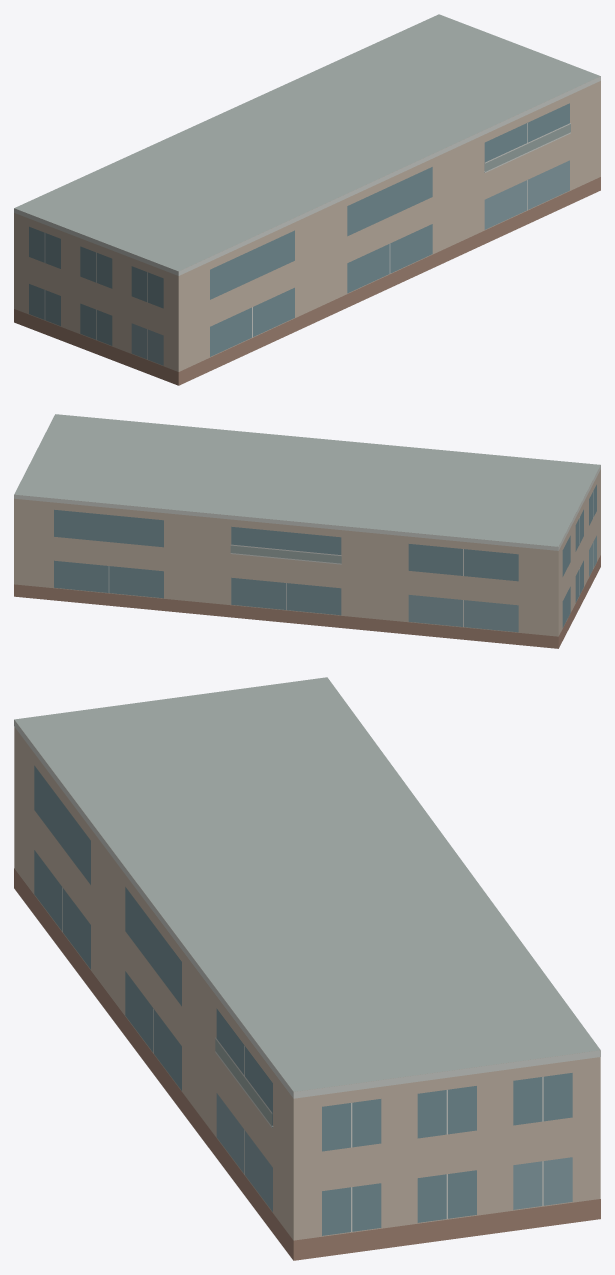
The model's file is survey-upis-33028425.glb.
3 renders of one model, top to bottom at view 1: azimuth 30°, elevation 25°; view 2: azimuth 150°, elevation 25°; view 3: azimuth 270°, elevation 25°, orthographic. The views are drawn at different scales.
Visible parts, largest first — view 1: survey-upis-33028425.tmp; view 2: survey-upis-33028425.tmp; view 3: survey-upis-33028425.tmp.
Part boxes in pixels (box(x1,y1,x2,y2)): survey-upis-33028425.tmp: box(14, 14, 600, 385); survey-upis-33028425.tmp: box(14, 414, 600, 648); survey-upis-33028425.tmp: box(14, 677, 600, 1260).
Size of the model in its own units: 32.16 by 6.1 by 19.23.
